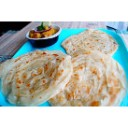parota: (51, 50, 124, 107), (4, 52, 72, 105), (65, 28, 117, 56)
